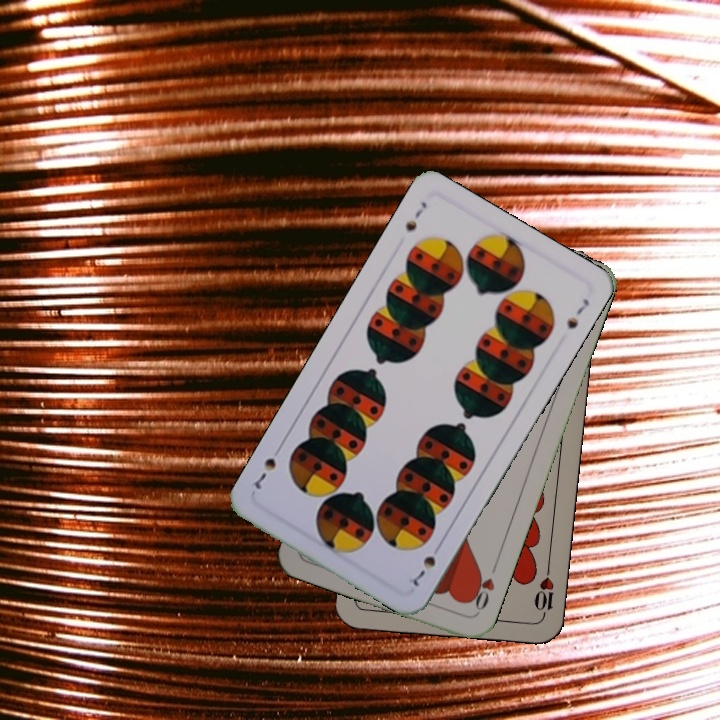H10: (530, 562, 557, 621)
HO: (465, 559, 500, 616)
S7: (408, 539, 445, 590), (401, 197, 430, 234)
